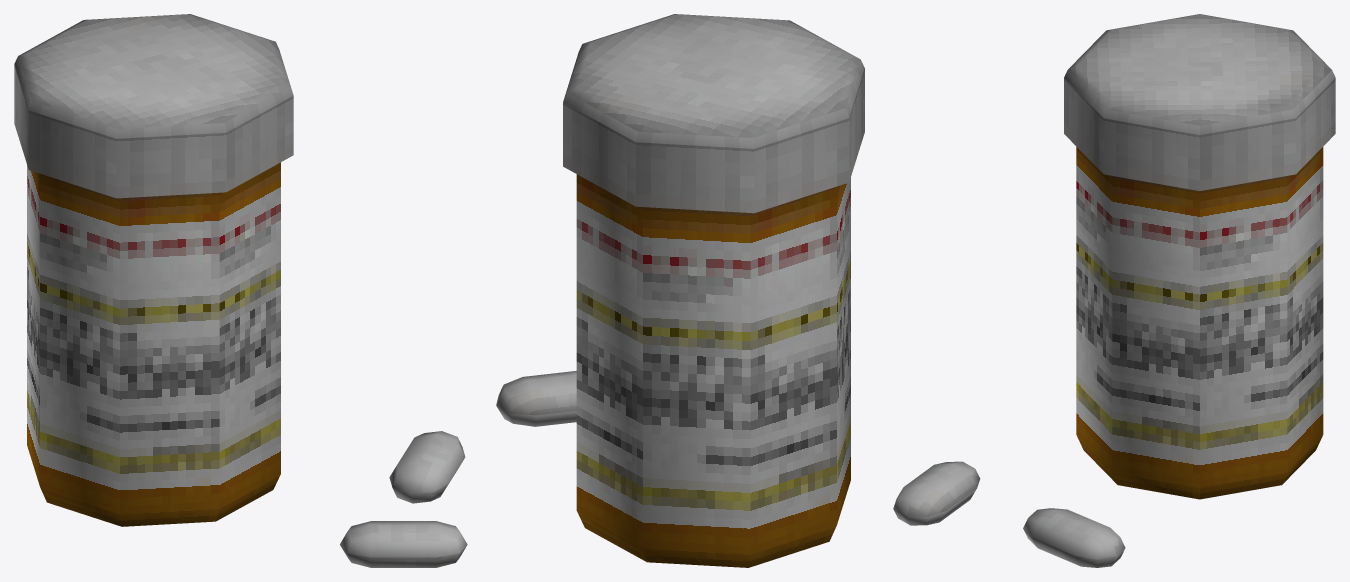
File: pills_bottle_1.fbx
3 renders of one model, left to right at view 1: azimuth 30°, elevation 25°; view 2: azimuth 150°, elevation 25°; view 3: azimuth 270°, elevation 25°, orthographic. The views are drawn at different scales.
Parts seen in each view (by area): view 1: pills_bottle_1; view 2: pills_bottle_1; view 3: pills_bottle_1.
Part boxes in pixels (x1,y1,x2,y2): pills_bottle_1: [14, 14, 467, 567]; pills_bottle_1: [496, 14, 864, 567]; pills_bottle_1: [893, 14, 1335, 567].
Bounding box in the file's own units: 0.1259 × 0.1354 × 0.1333.
